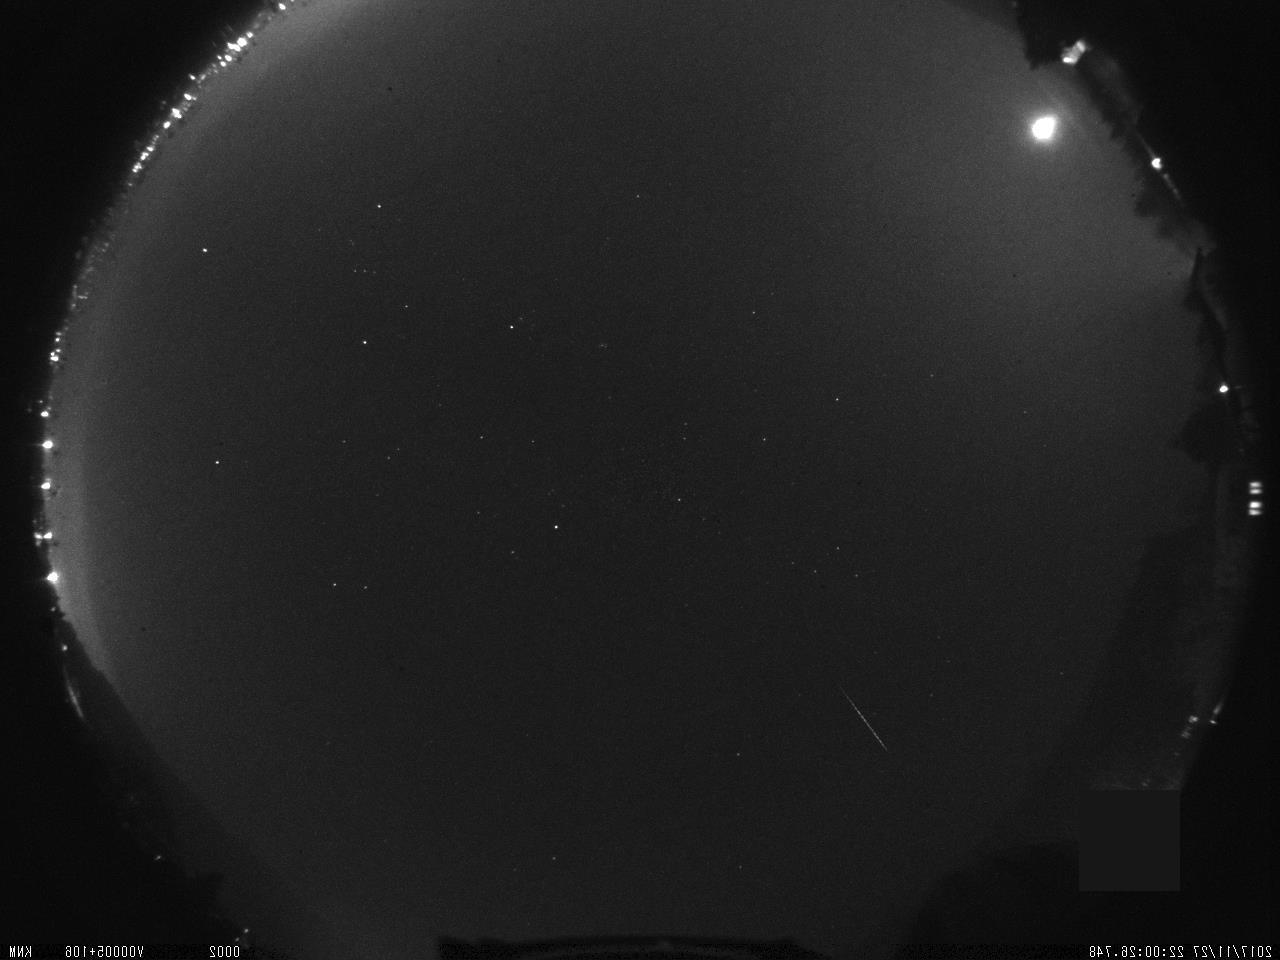meteor: (823, 663, 914, 767)
